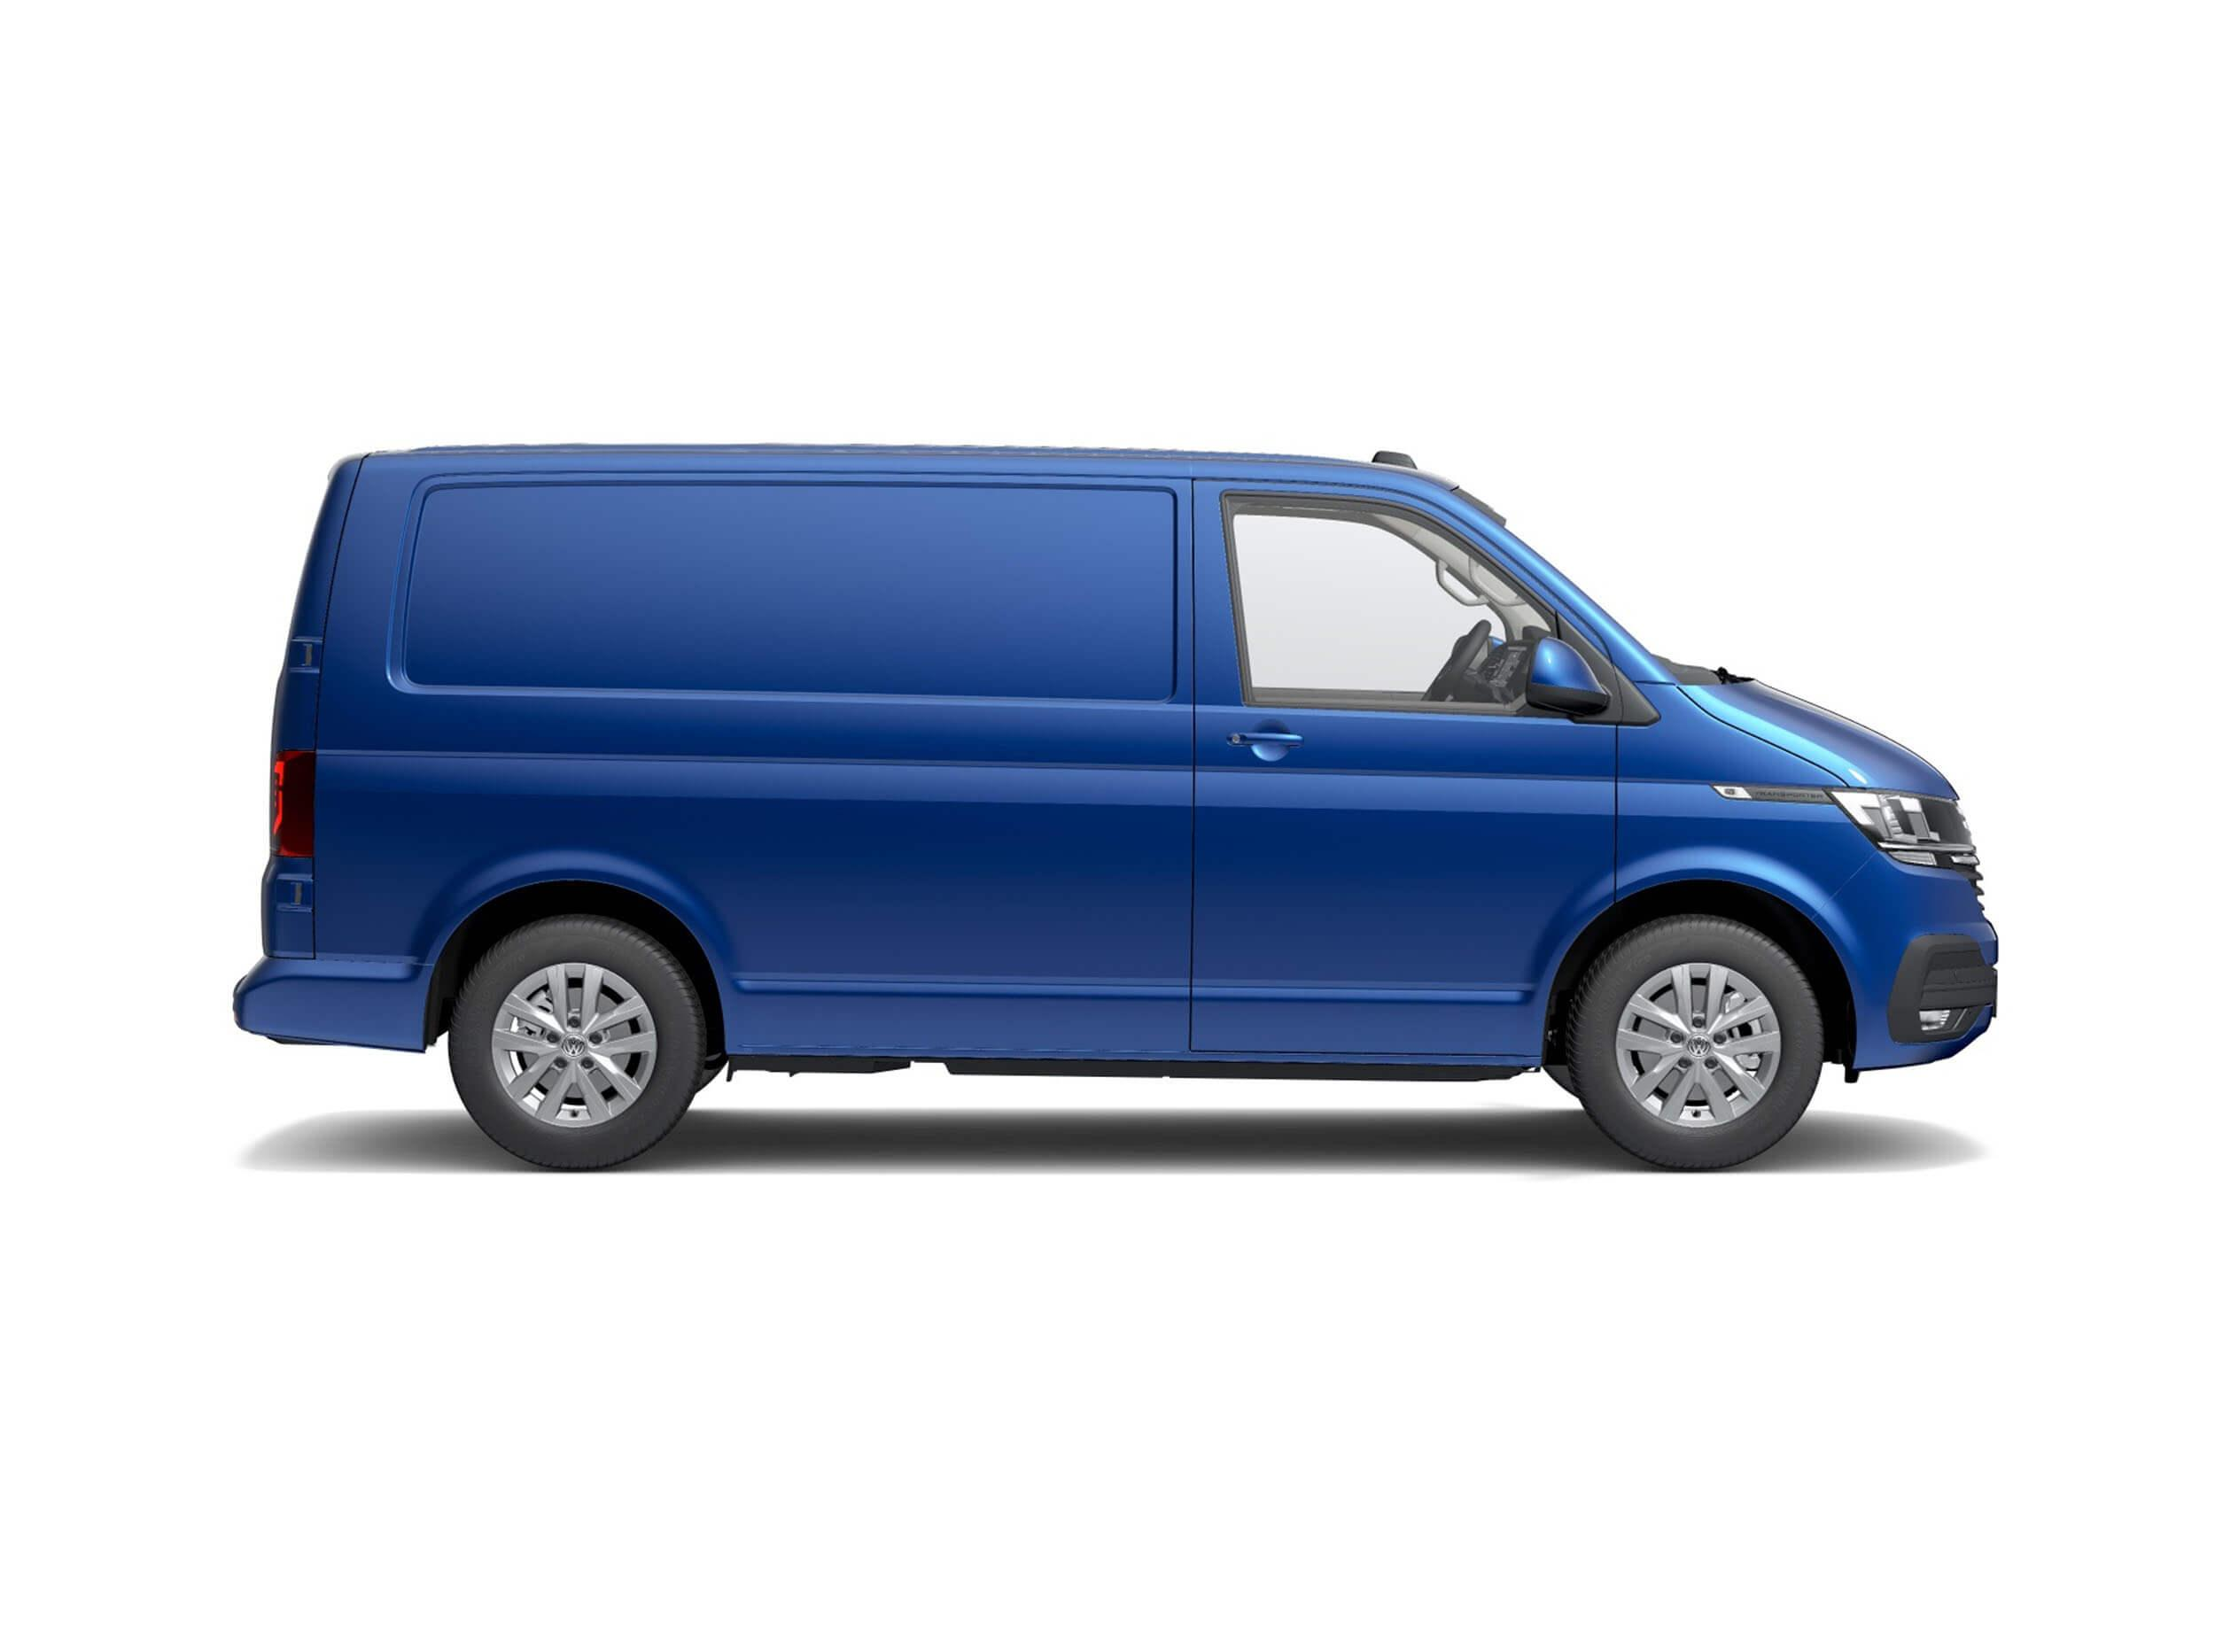van: (229, 441, 1995, 1173)
